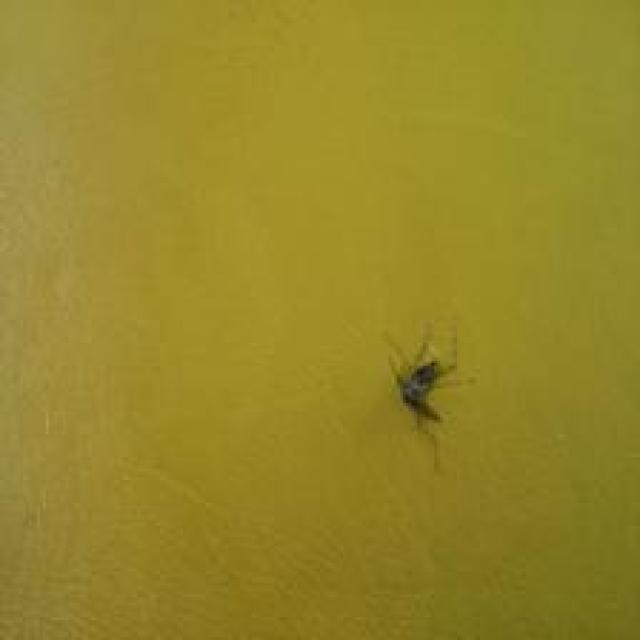Aedes albopictus: (383, 321, 474, 433)
